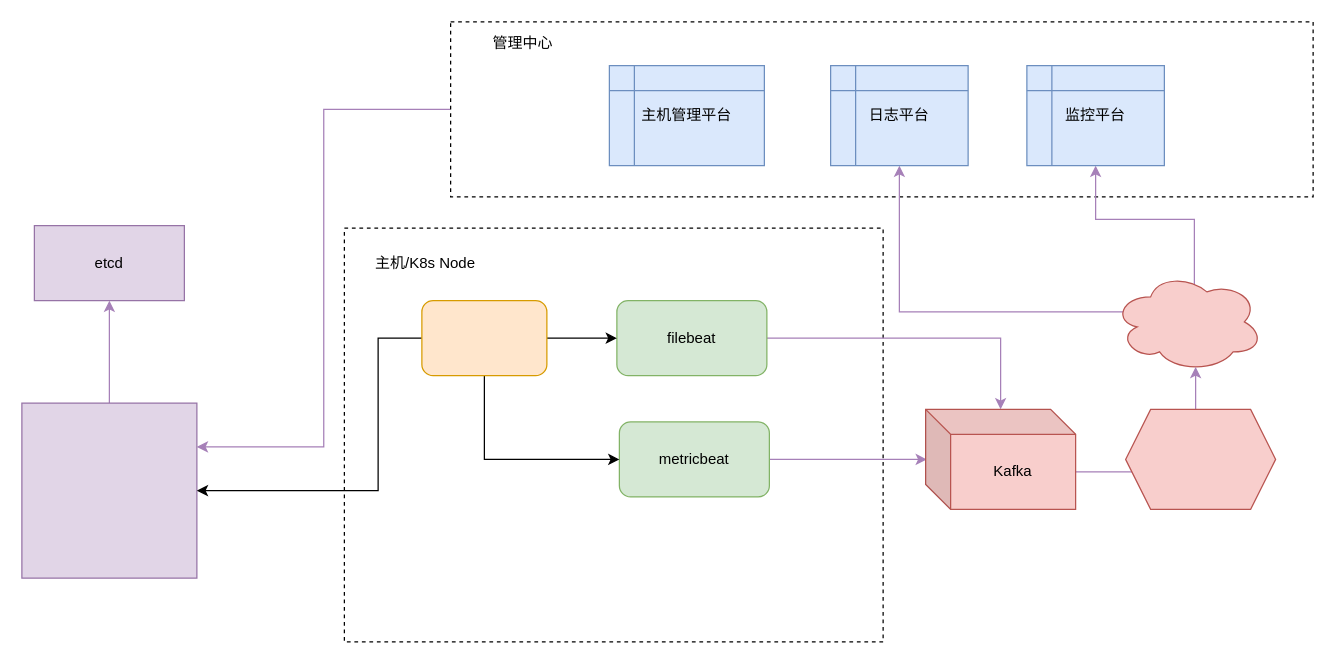
Image size: 1335x664. Some labels were removed from this diagram. Each missing label, with the centre of its shape:
"es" goes at (x=1187, y=321).
"主机Agent /动态配置Agent" goes at (x=484, y=337).
"转发与流式处理flink" goes at (x=1200, y=458).
"配置中心Server /K8s ApiServer" goes at (x=109, y=490).
